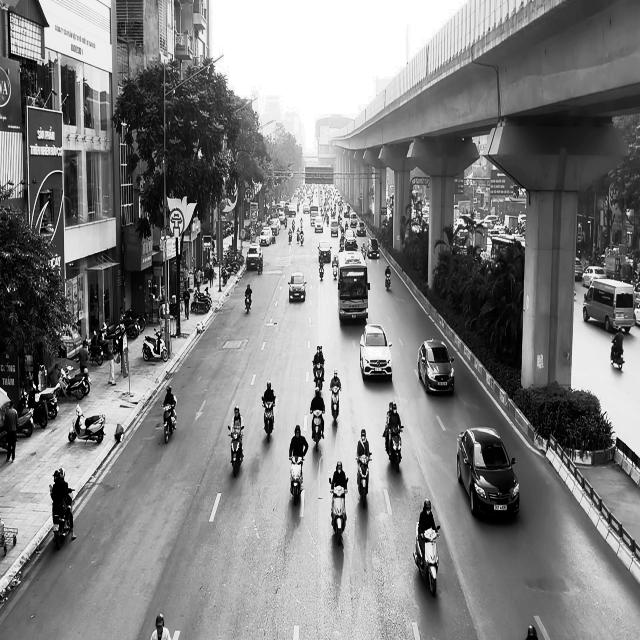bus: (337, 252, 368, 322)
car: (456, 426, 520, 519), (417, 338, 455, 395), (359, 323, 393, 380), (288, 272, 307, 302)
motorbike: (413, 522, 440, 597), (49, 484, 74, 550), (68, 404, 105, 443), (329, 480, 348, 546), (355, 452, 372, 507), (227, 424, 244, 477), (142, 328, 168, 362), (288, 455, 306, 504), (385, 425, 403, 473), (161, 399, 177, 444), (310, 409, 325, 452), (261, 399, 275, 442), (610, 339, 624, 370), (330, 385, 340, 426), (313, 362, 324, 391), (244, 293, 252, 313), (318, 259, 324, 280), (385, 272, 391, 290)
